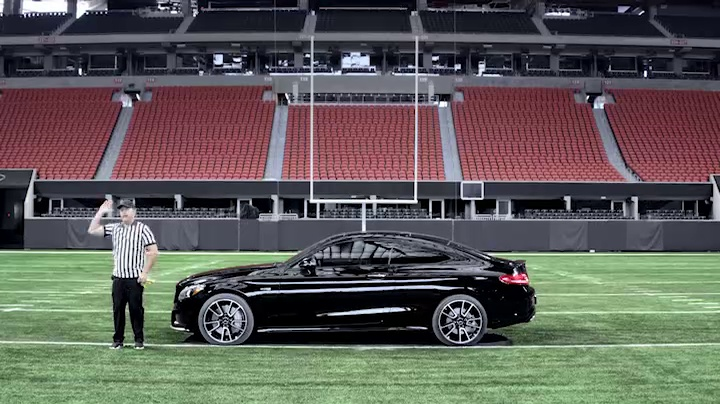amg: (170, 233, 538, 346)
